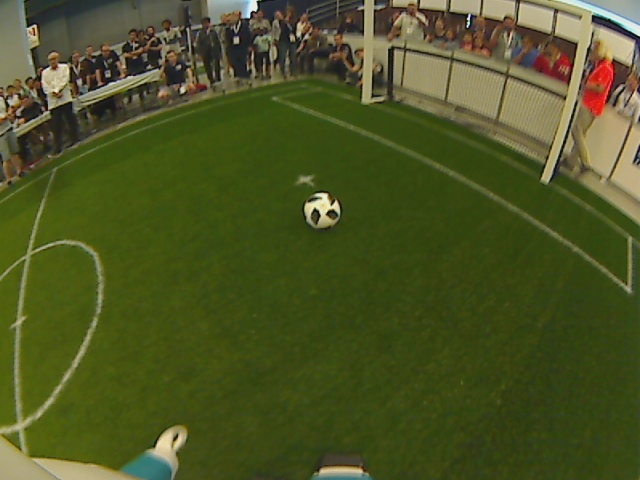ball: (301, 192, 342, 226)
